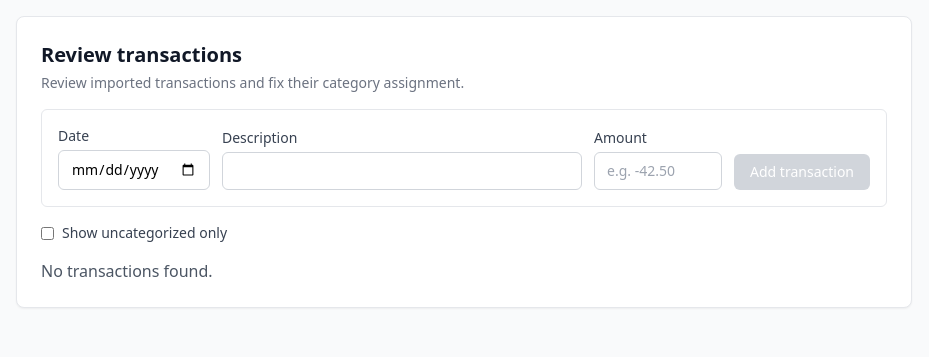
Scenario: ReviewTransactions › shows the real backend error message when adding a transaction fails validation
Expected: the text "No transactions found." is shown, [41,260,213,282]
Type "2026-07-12" into the date field labelled "Date".
click(134, 170); type("2026-07-12")  # box [58,150,210,190]
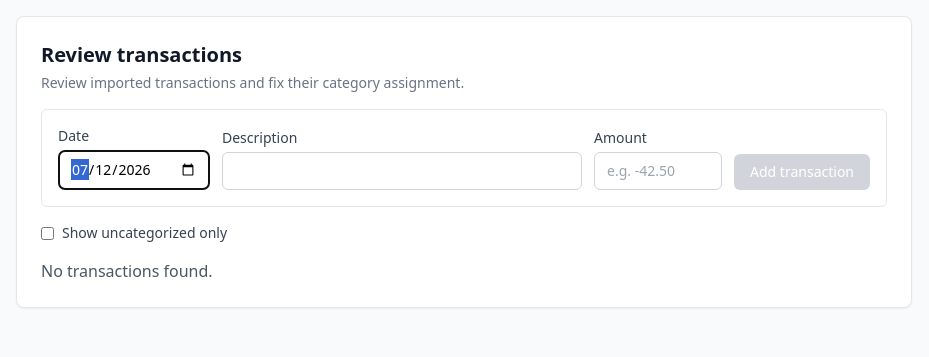
Type "x" into the field labelled "Description".
click(402, 171); type("x")  # box [222,152,582,190]
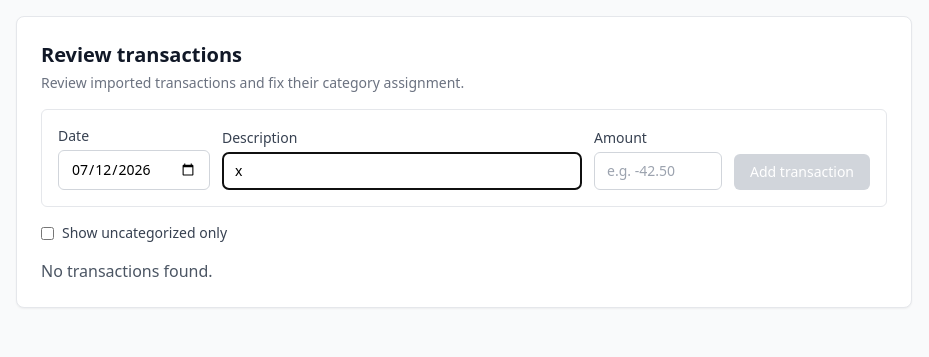
Type "-15" into the number field labelled "Amount".
click(658, 171); type("-15")  # box [594,152,722,190]
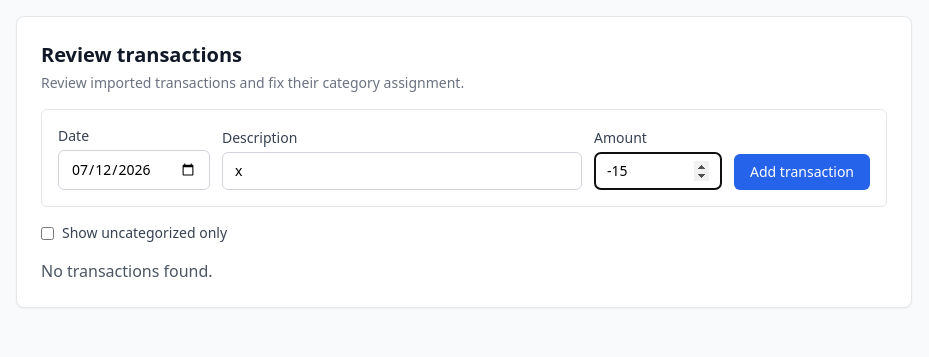
Click the button "Add transaction".
click(802, 172)  # box [734,154,870,190]
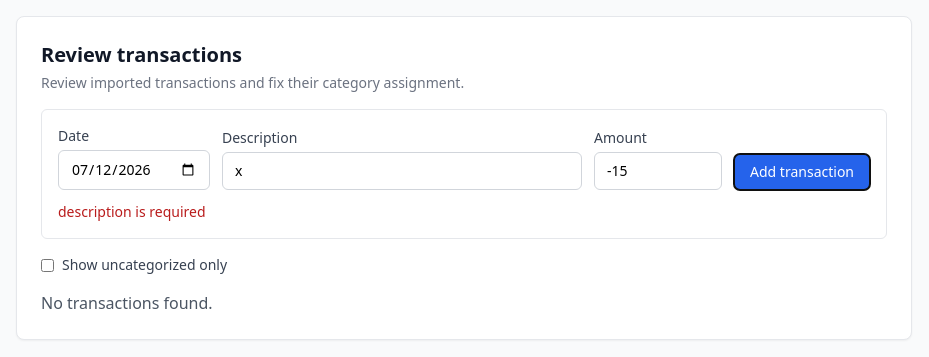
Result: the text "description is required" is shown at [58,202,206,221]
